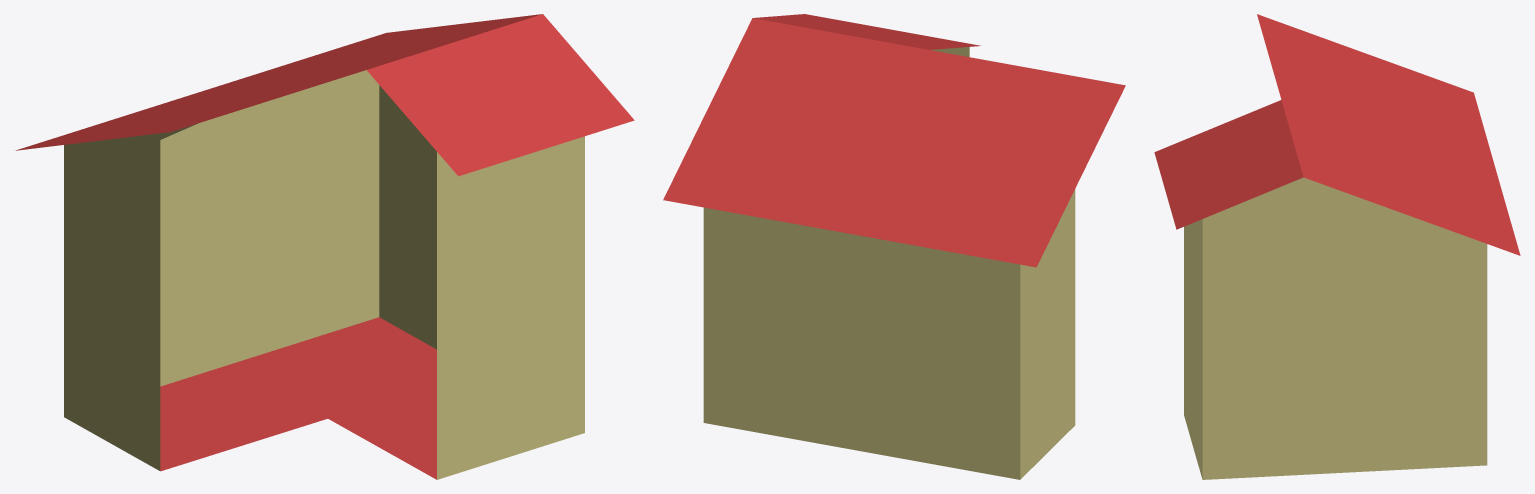
The picture shows the model from 3 angles, left to right: view 1: azimuth 30°, elevation 25°; view 2: azimuth 150°, elevation 25°; view 3: azimuth 270°, elevation 25°; orthographic projection. The views are drawn at different scales.
Bounding box in the file's own units: 10.79 × 9.22 × 8.61.
